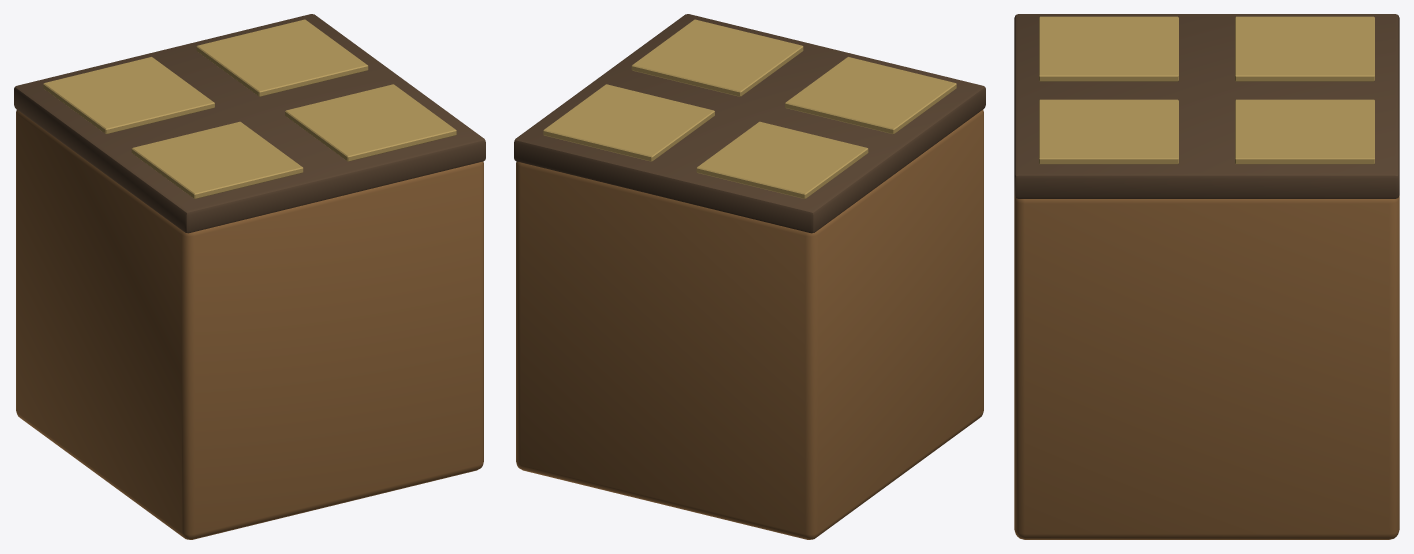
The model's file is crafting-bench.glb.
The picture shows the model from 3 angles, left to right: view 1: azimuth 30°, elevation 25°; view 2: azimuth 150°, elevation 25°; view 3: azimuth 270°, elevation 25°; orthographic projection. The views are drawn at different scales.
Parts seen in each view (by area): view 1: crafting-bench; view 2: crafting-bench; view 3: crafting-bench.
Part boxes in pixels (<box>): crafting-bench: <box>14,14,485,539</box>; crafting-bench: <box>514,14,985,539</box>; crafting-bench: <box>1014,14,1399,539</box>.
Size of the model in its own units: 1.1 by 1.18 by 1.1.
